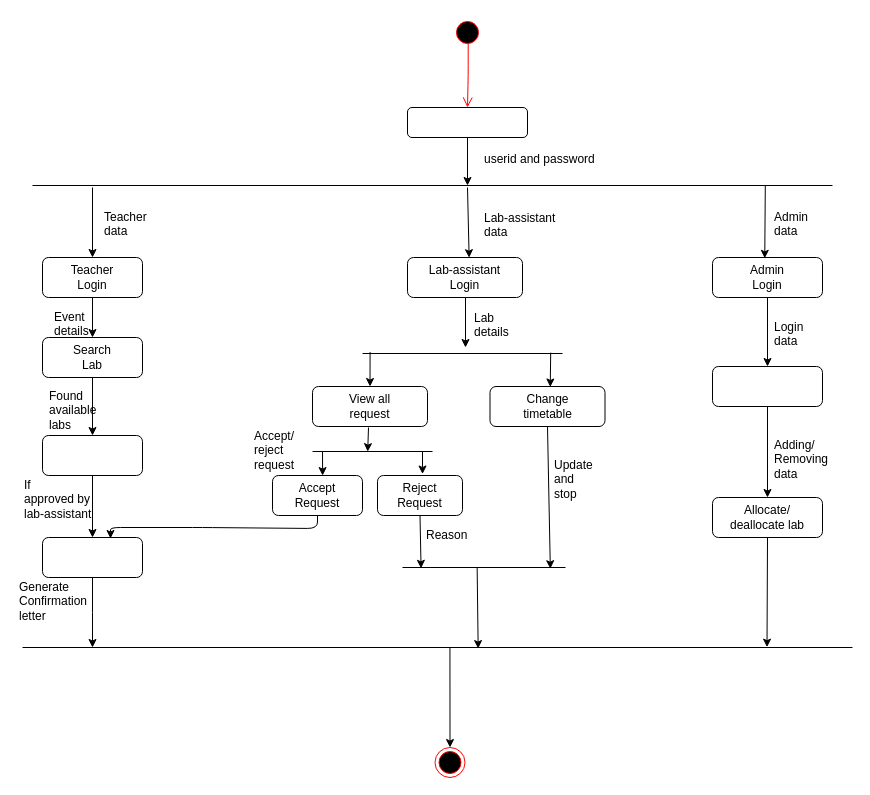
This 870x795 diagram has some shape labels left out. The shapes that lost their labels are listed below. From the top down, each one's centre as x and y in pixels, then its label:
pixel 467 122: Login
pixel 767 386: Add/Remove lab assistant
pixel 92 455: Make Request
pixel 92 557: Lab Booked
